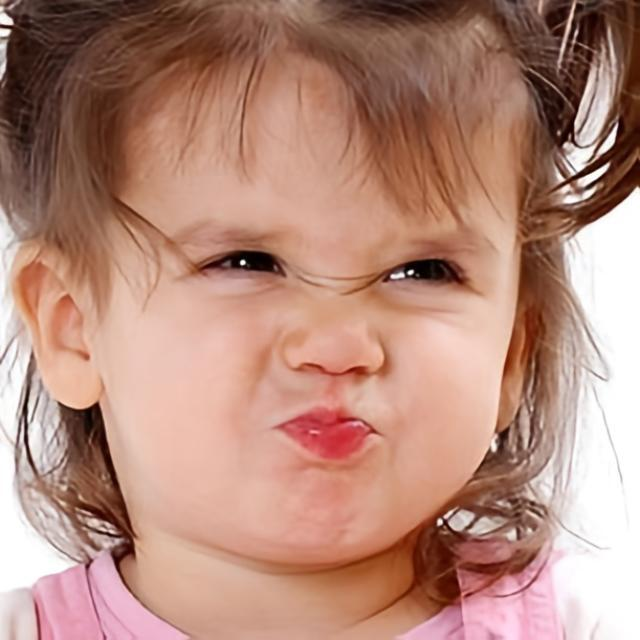disgust: (104, 16, 524, 567)
